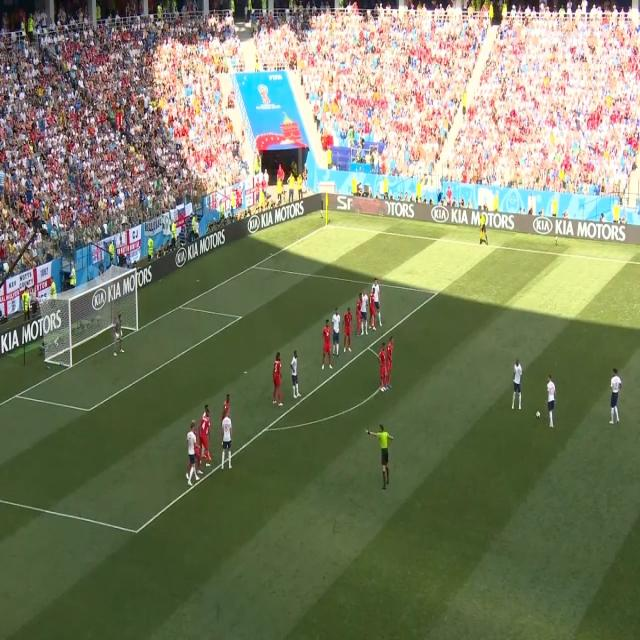ball: (536, 410, 541, 419)
player: (608, 362, 622, 431), (185, 423, 199, 489), (322, 318, 334, 376), (272, 353, 284, 409), (546, 374, 556, 432), (222, 414, 232, 472), (291, 348, 301, 403), (512, 358, 522, 412), (331, 306, 341, 359), (378, 342, 387, 396), (202, 414, 210, 470), (345, 306, 353, 356), (375, 278, 383, 328), (370, 286, 376, 334), (357, 288, 362, 342), (388, 335, 394, 379), (364, 290, 368, 338), (223, 393, 231, 412), (203, 398, 210, 416)
